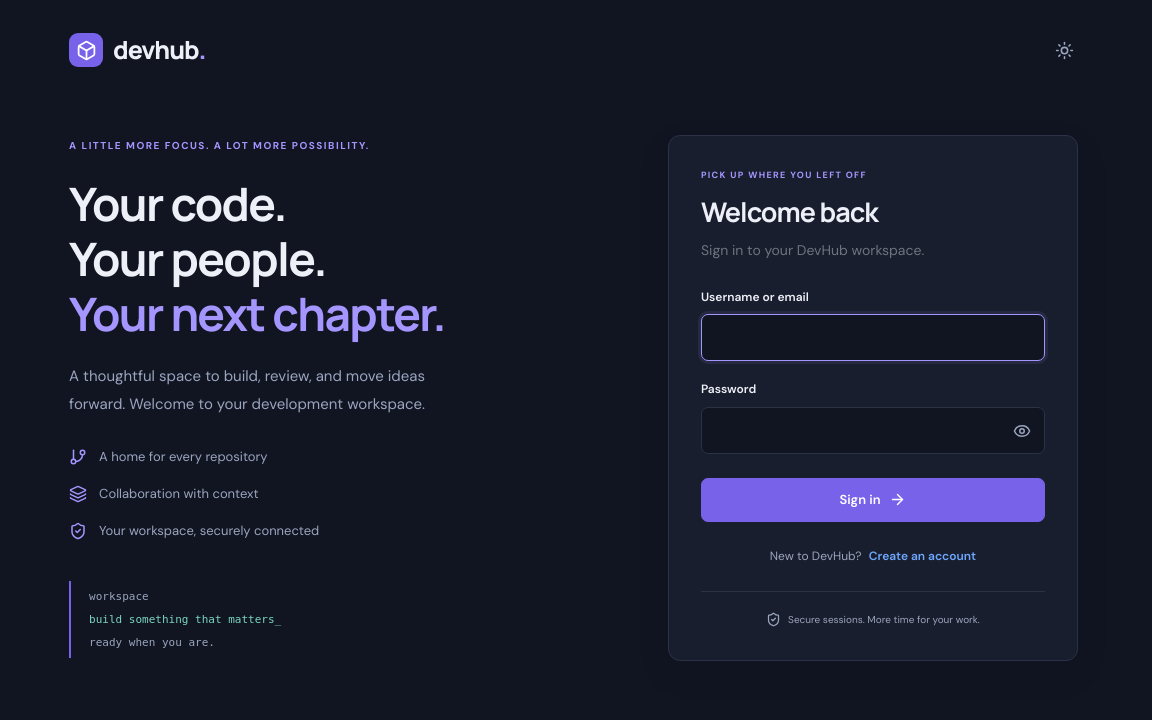
authentication UI › shows invalid credentials inline
This screenshot has width=1152, height=720.
Check: the heading "Welcome back" is shown, box [701,193,878,230]
Type "A" into the field labelled "Username or email". click: (873, 338)
box: [701,314,1045,361]
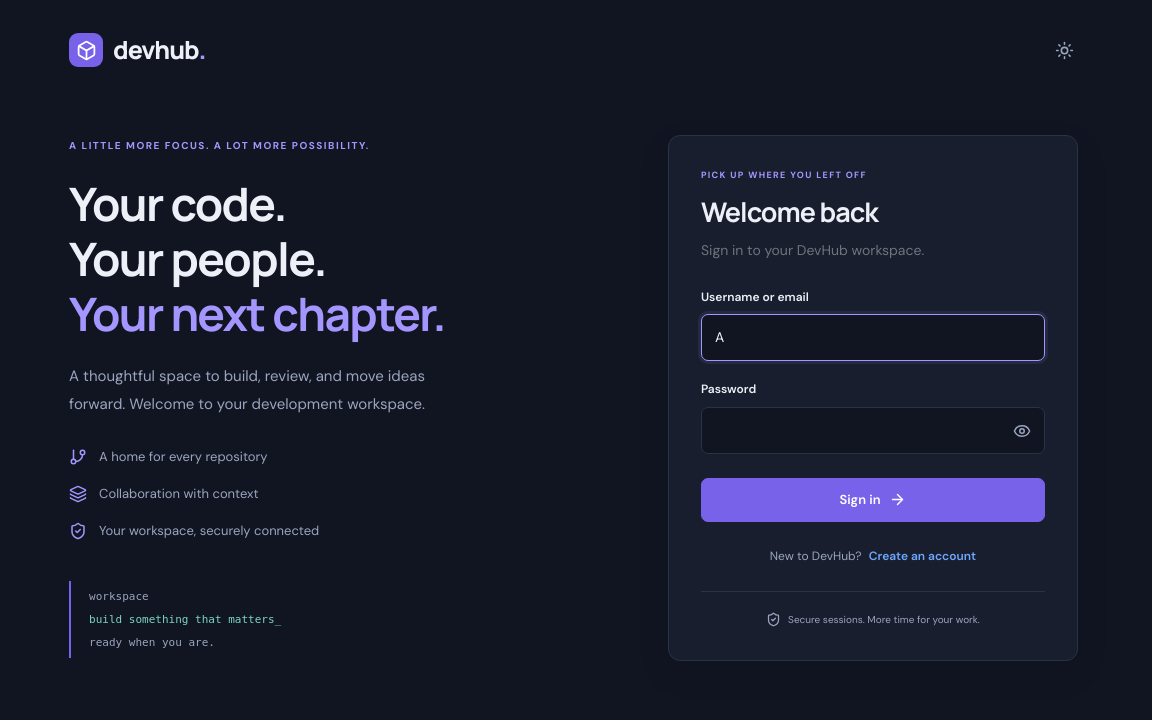
Type "wrong" into the password field labelled "Password". click: (873, 430)
box: [701,406,1045,454]
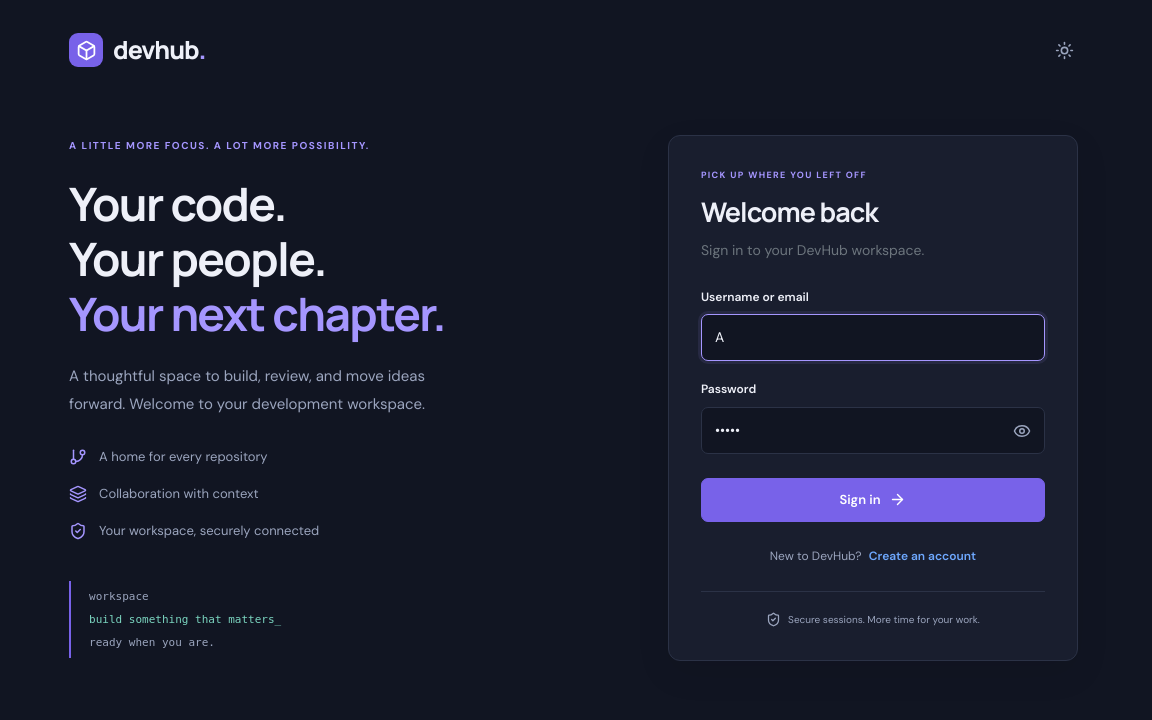
Click the button "Sign in". click: (873, 500)
box: [701,478,1045,522]
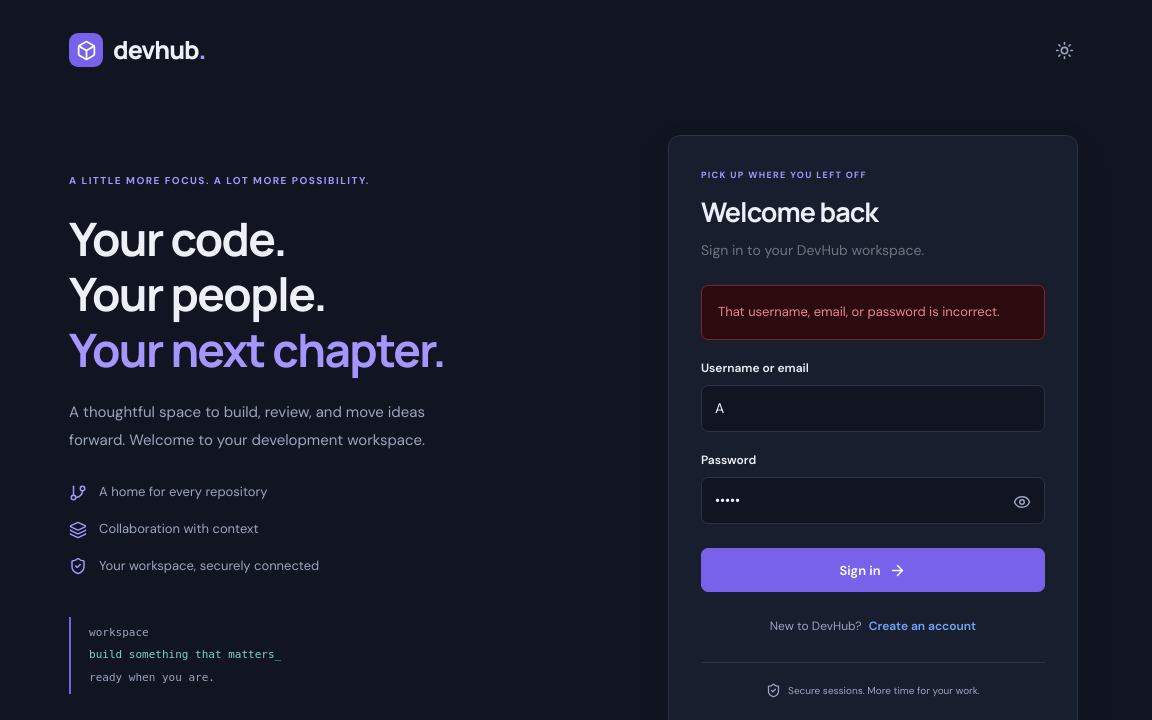
Check: the message shows "incorrect", box [718,303,1000,320]
